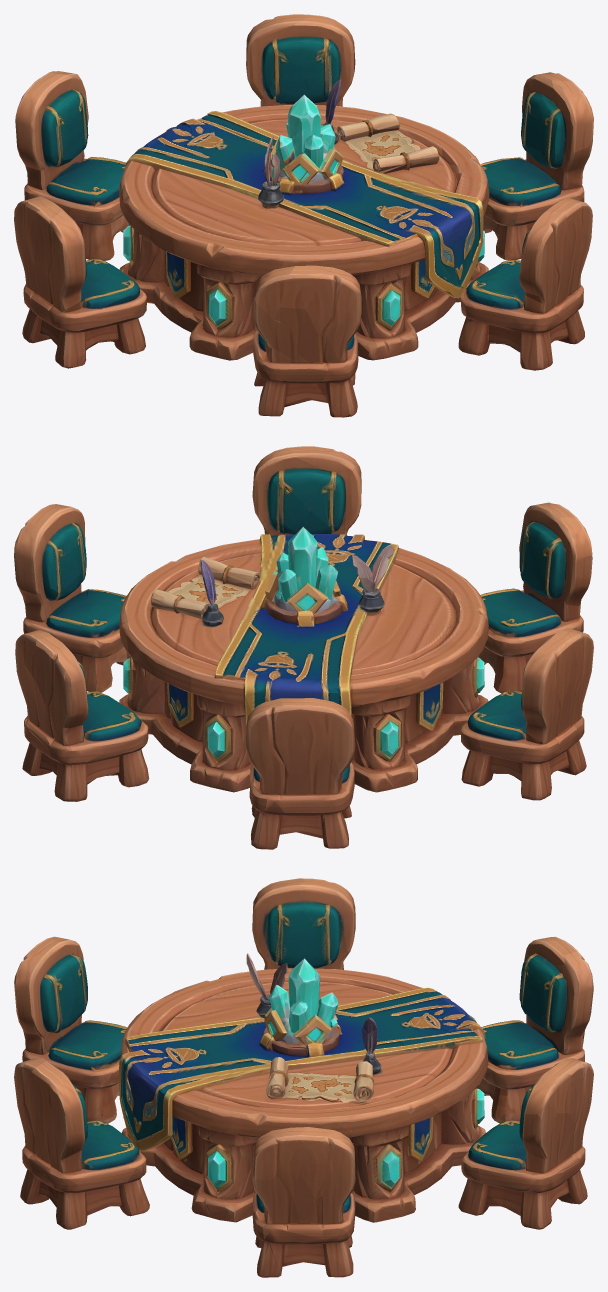
Rendered from gh_council_set.fbx.
3 renders of one model, top to bottom at view 1: azimuth 30°, elevation 25°; view 2: azimuth 150°, elevation 25°; view 3: azimuth 270°, elevation 25°, orthographic.
Parts seen in each view (by area): view 1: gh_council_set; view 2: gh_council_set; view 3: gh_council_set.
Boxes of the visible parts, x1,y1,x2,y2 form: gh_council_set: (14,14,593,417); gh_council_set: (14,446,593,849); gh_council_set: (14,878,593,1277).
Size of the model in its own units: 4.31 by 1.5 by 4.07.
